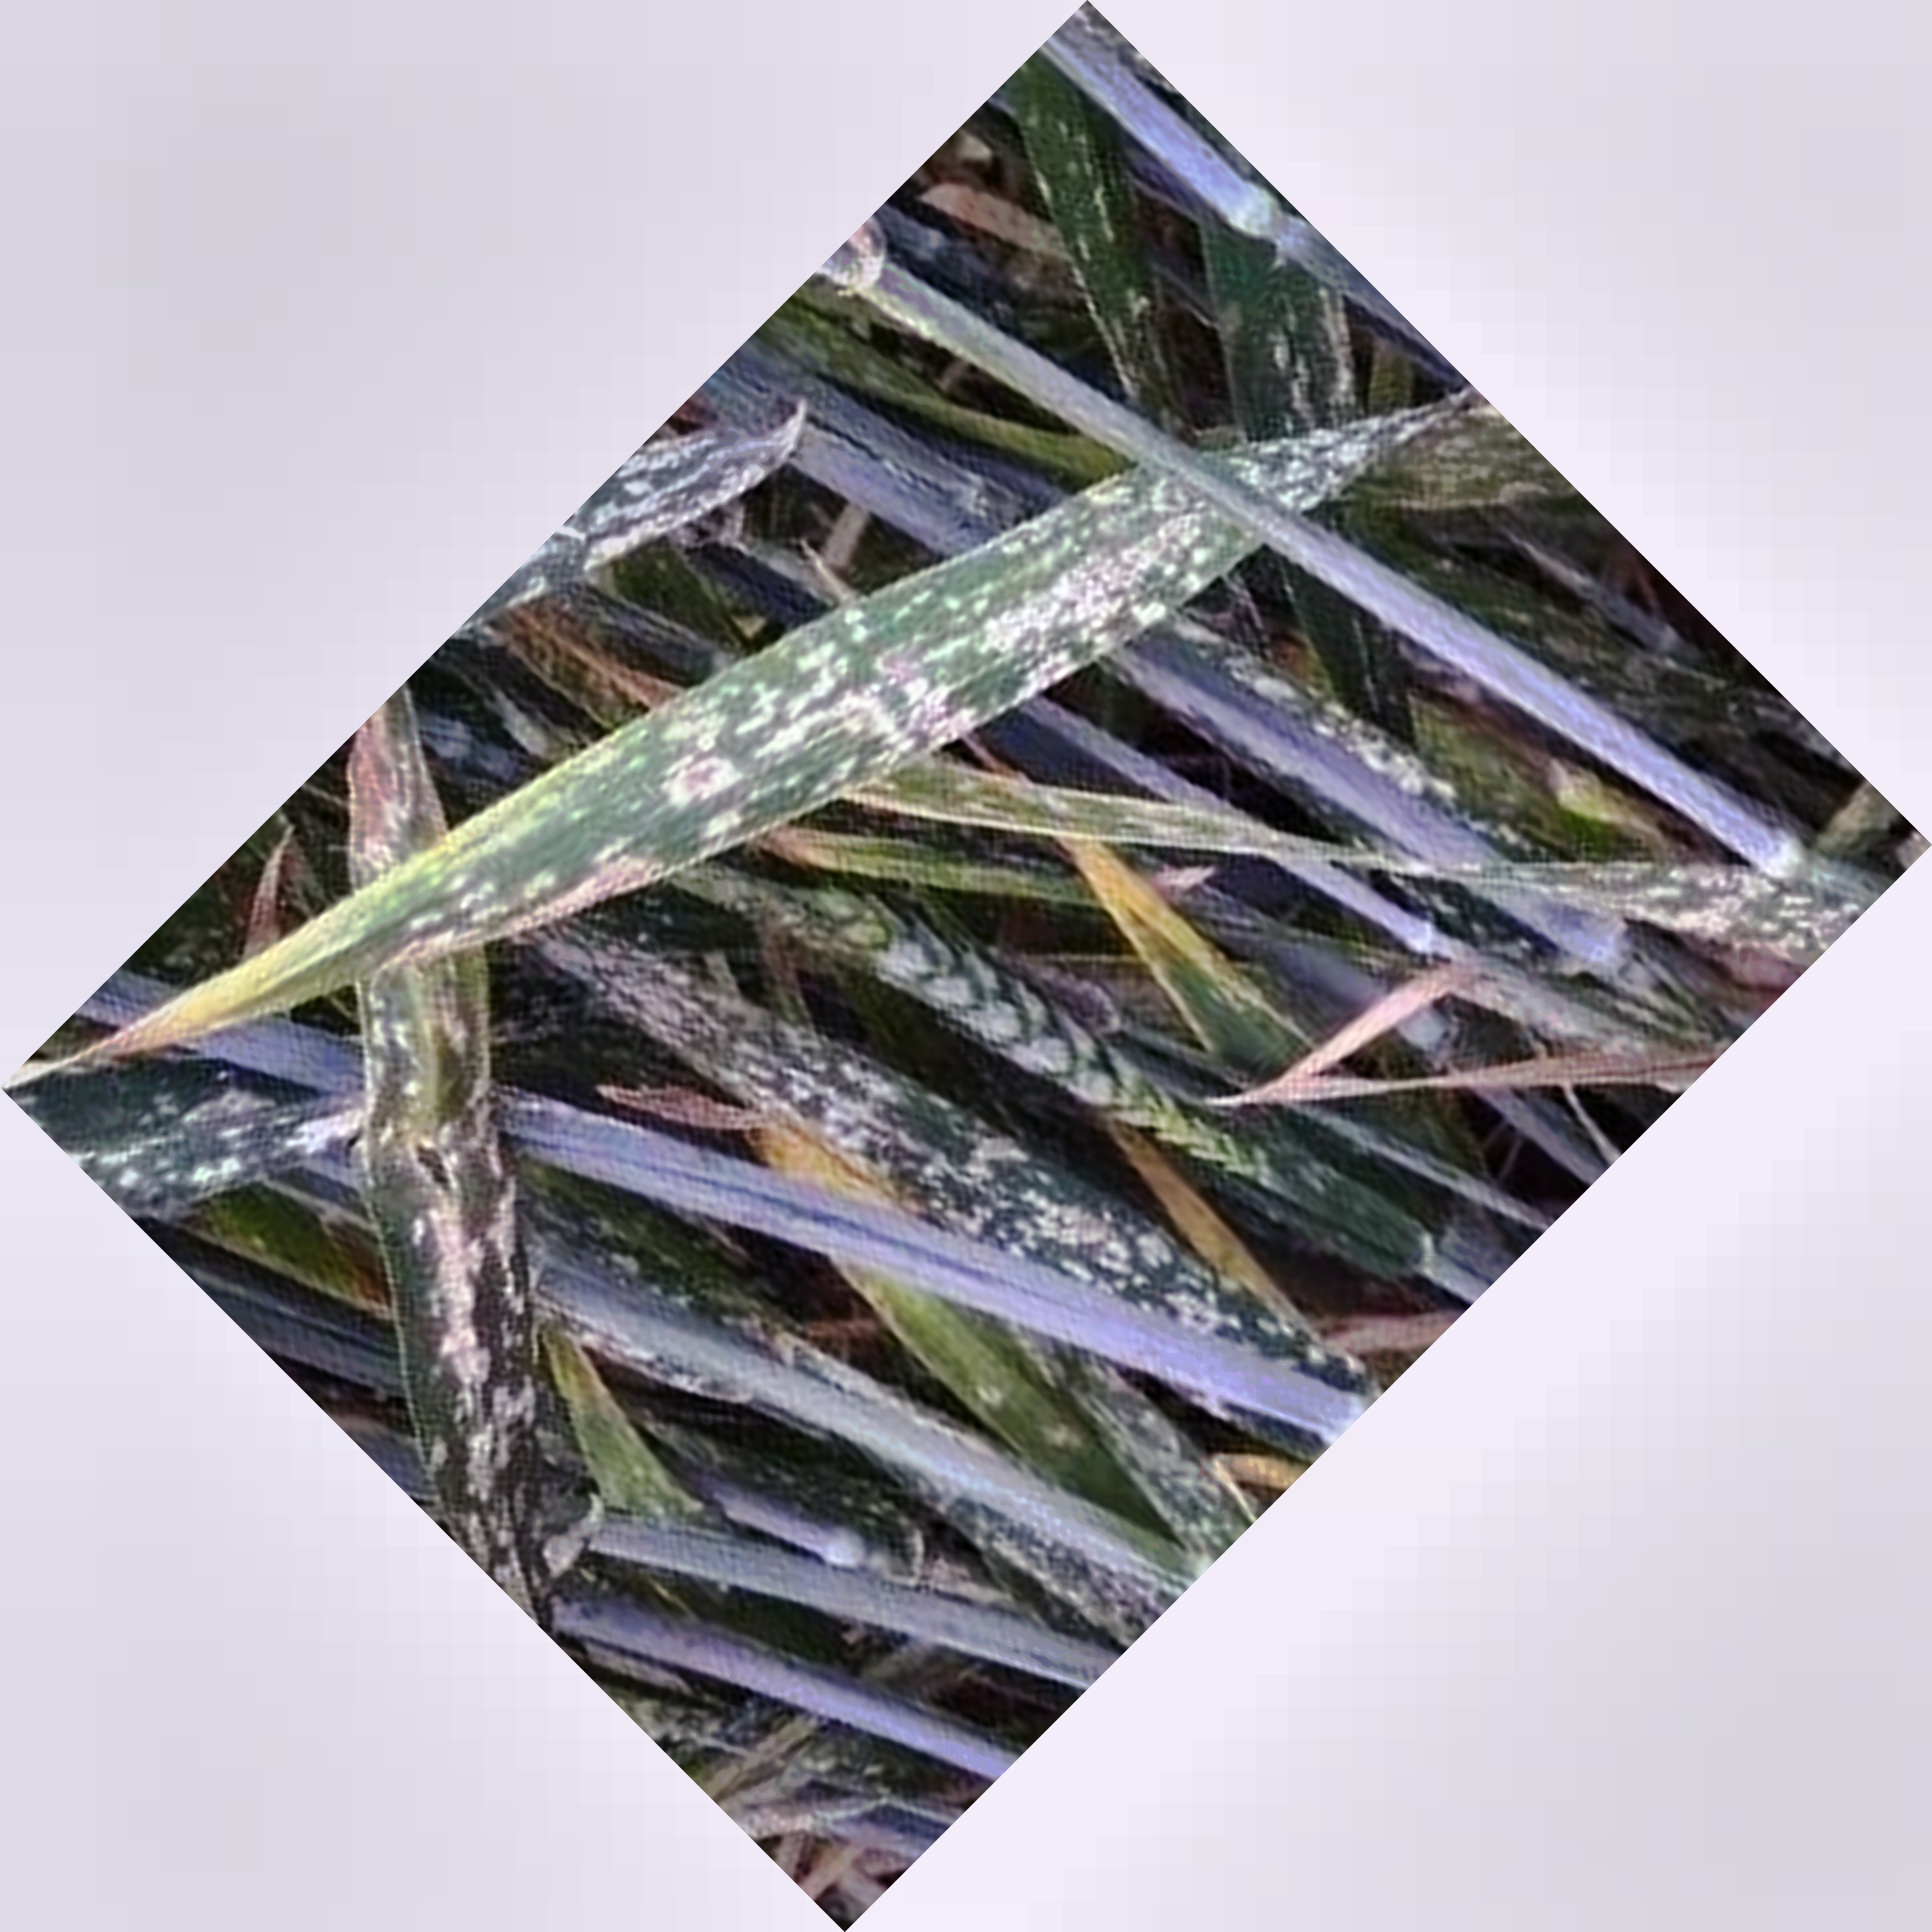Powdery Mildew: (644, 405, 1277, 830), (655, 989, 1226, 1313), (356, 1123, 605, 1546)
